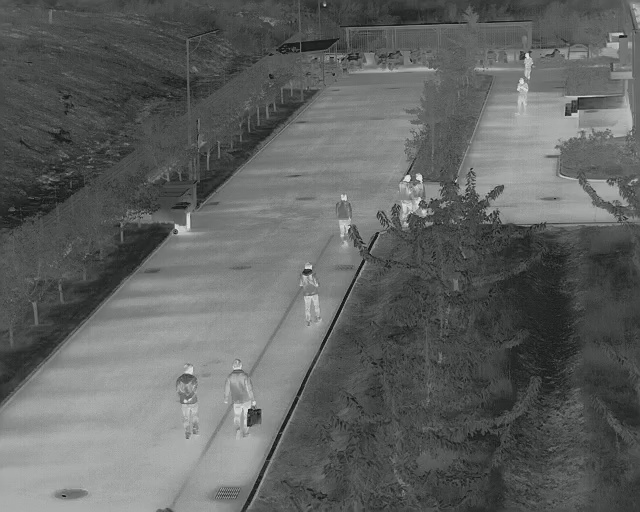person: (223, 358, 260, 439), (176, 362, 201, 440), (296, 262, 324, 327), (334, 190, 354, 248), (514, 78, 532, 116), (399, 173, 410, 227), (413, 170, 425, 211)
